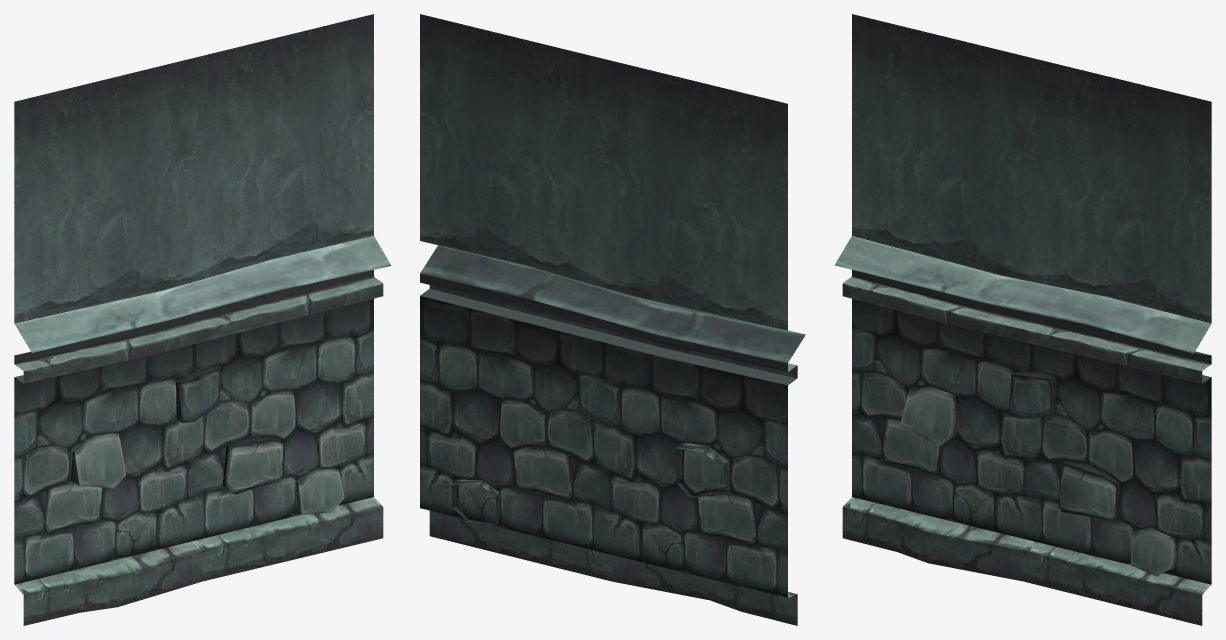
File: crypt_wall_straight_01.fbx
3 views of the same model, side by side, from view 1: azimuth 30°, elevation 25°; view 2: azimuth 150°, elevation 25°; view 3: azimuth 330°, elevation 25° (orthographic). The views are drawn at different scales.
Visible parts, largest first — view 1: crypt_wall_straight_01-0; view 2: crypt_wall_straight_01-0; view 3: crypt_wall_straight_01-0.
Part boxes in pixels (left/top/right/bottom): crypt_wall_straight_01-0: left=14, top=14, right=391, bottom=625; crypt_wall_straight_01-0: left=420, top=14, right=805, bottom=625; crypt_wall_straight_01-0: left=834, top=14, right=1211, bottom=625.
Size of the model in its own units: 4 by 5.5 by 0.459.
